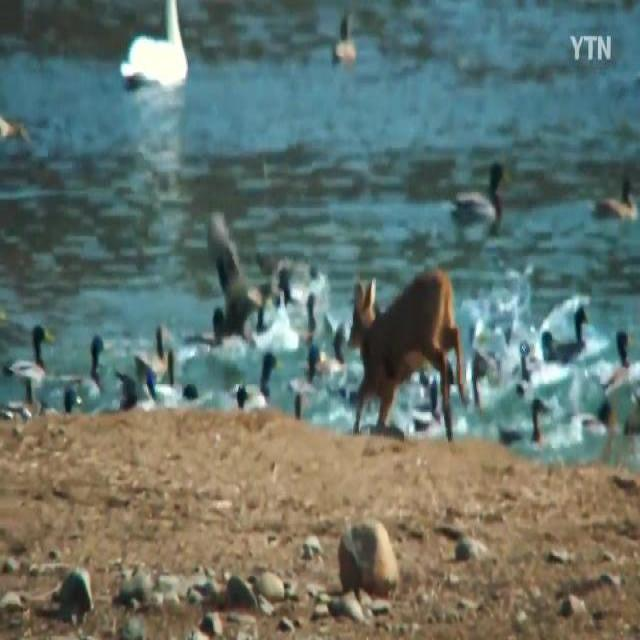deer: (348, 267, 466, 445)
